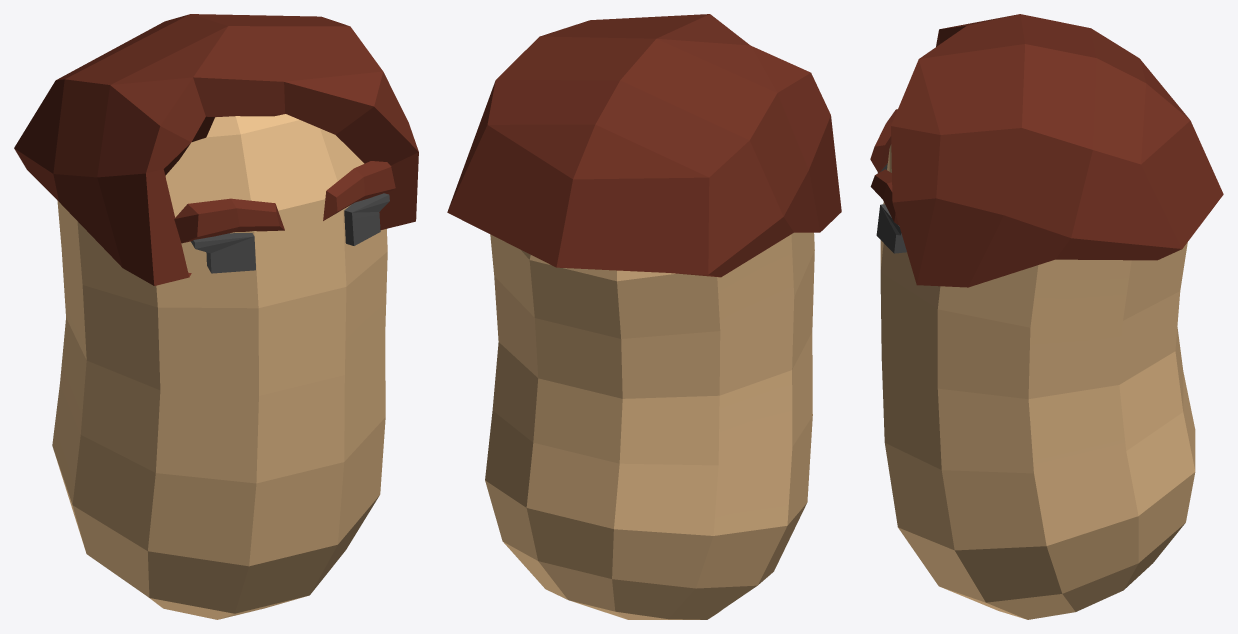
The model's file is BasicModel.fbx.
The picture shows the model from 3 angles, left to right: view 1: azimuth 30°, elevation 25°; view 2: azimuth 150°, elevation 25°; view 3: azimuth 270°, elevation 25°; orthographic projection. The views are drawn at different scales.
Parts seen in each view (by area): view 1: SM_Bean_Female_01; view 2: SM_Bean_Female_01; view 3: SM_Bean_Female_01.
Boxes of the visible parts, left/top/right/bottom form: SM_Bean_Female_01: left=14, top=14, right=418, bottom=619; SM_Bean_Female_01: left=447, top=14, right=841, bottom=619; SM_Bean_Female_01: left=870, top=14, right=1223, bottom=619.
Size of the model in its own units: 96.21 by 172 by 99.35.
